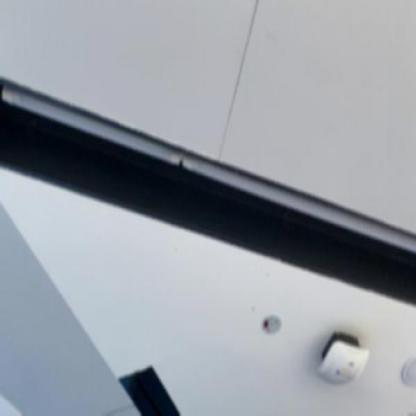light_off: (2, 49, 416, 290)
